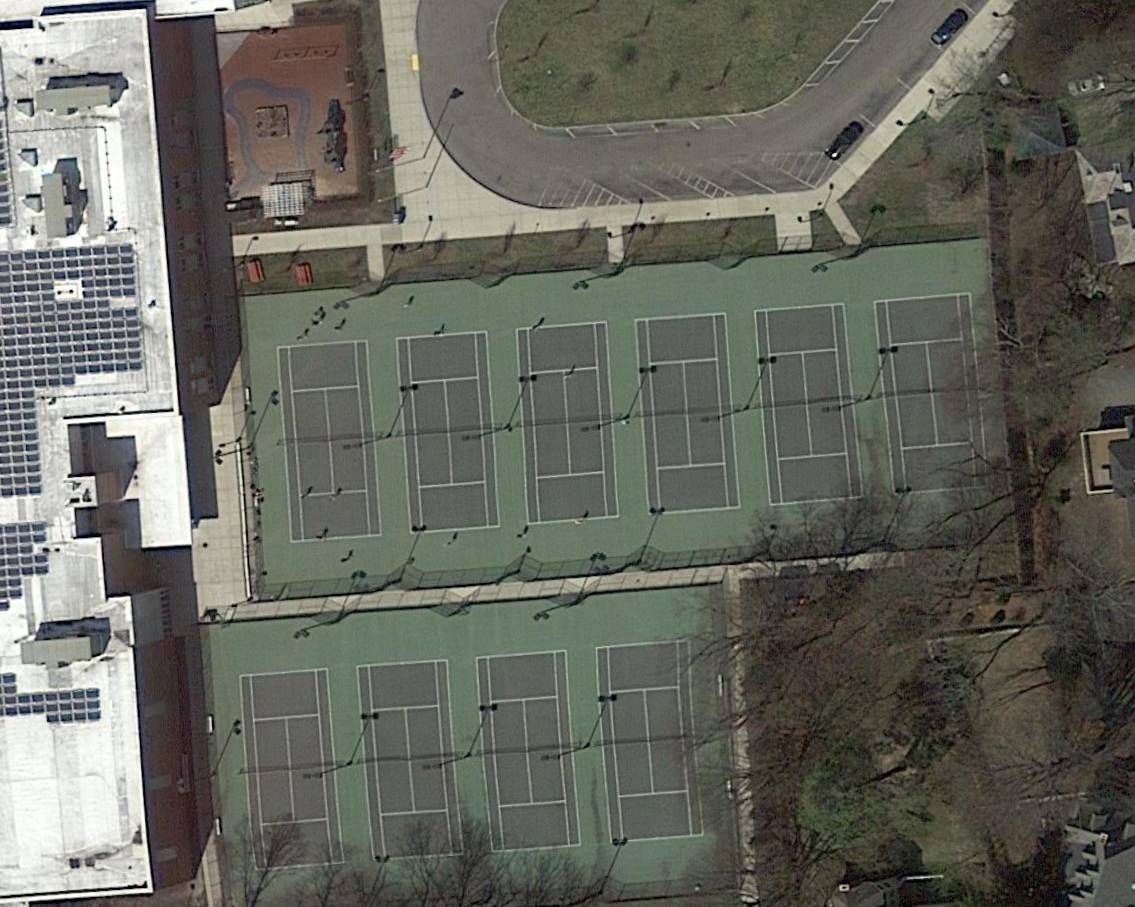small vehicle: (928, 3, 974, 51), (823, 116, 868, 163), (1064, 71, 1108, 98)
tennis court: (872, 292, 990, 496), (753, 303, 866, 507), (595, 641, 706, 844), (633, 312, 742, 517), (356, 660, 464, 863), (276, 340, 384, 543), (474, 650, 581, 854), (394, 332, 501, 536), (516, 321, 621, 527), (240, 668, 347, 870)
